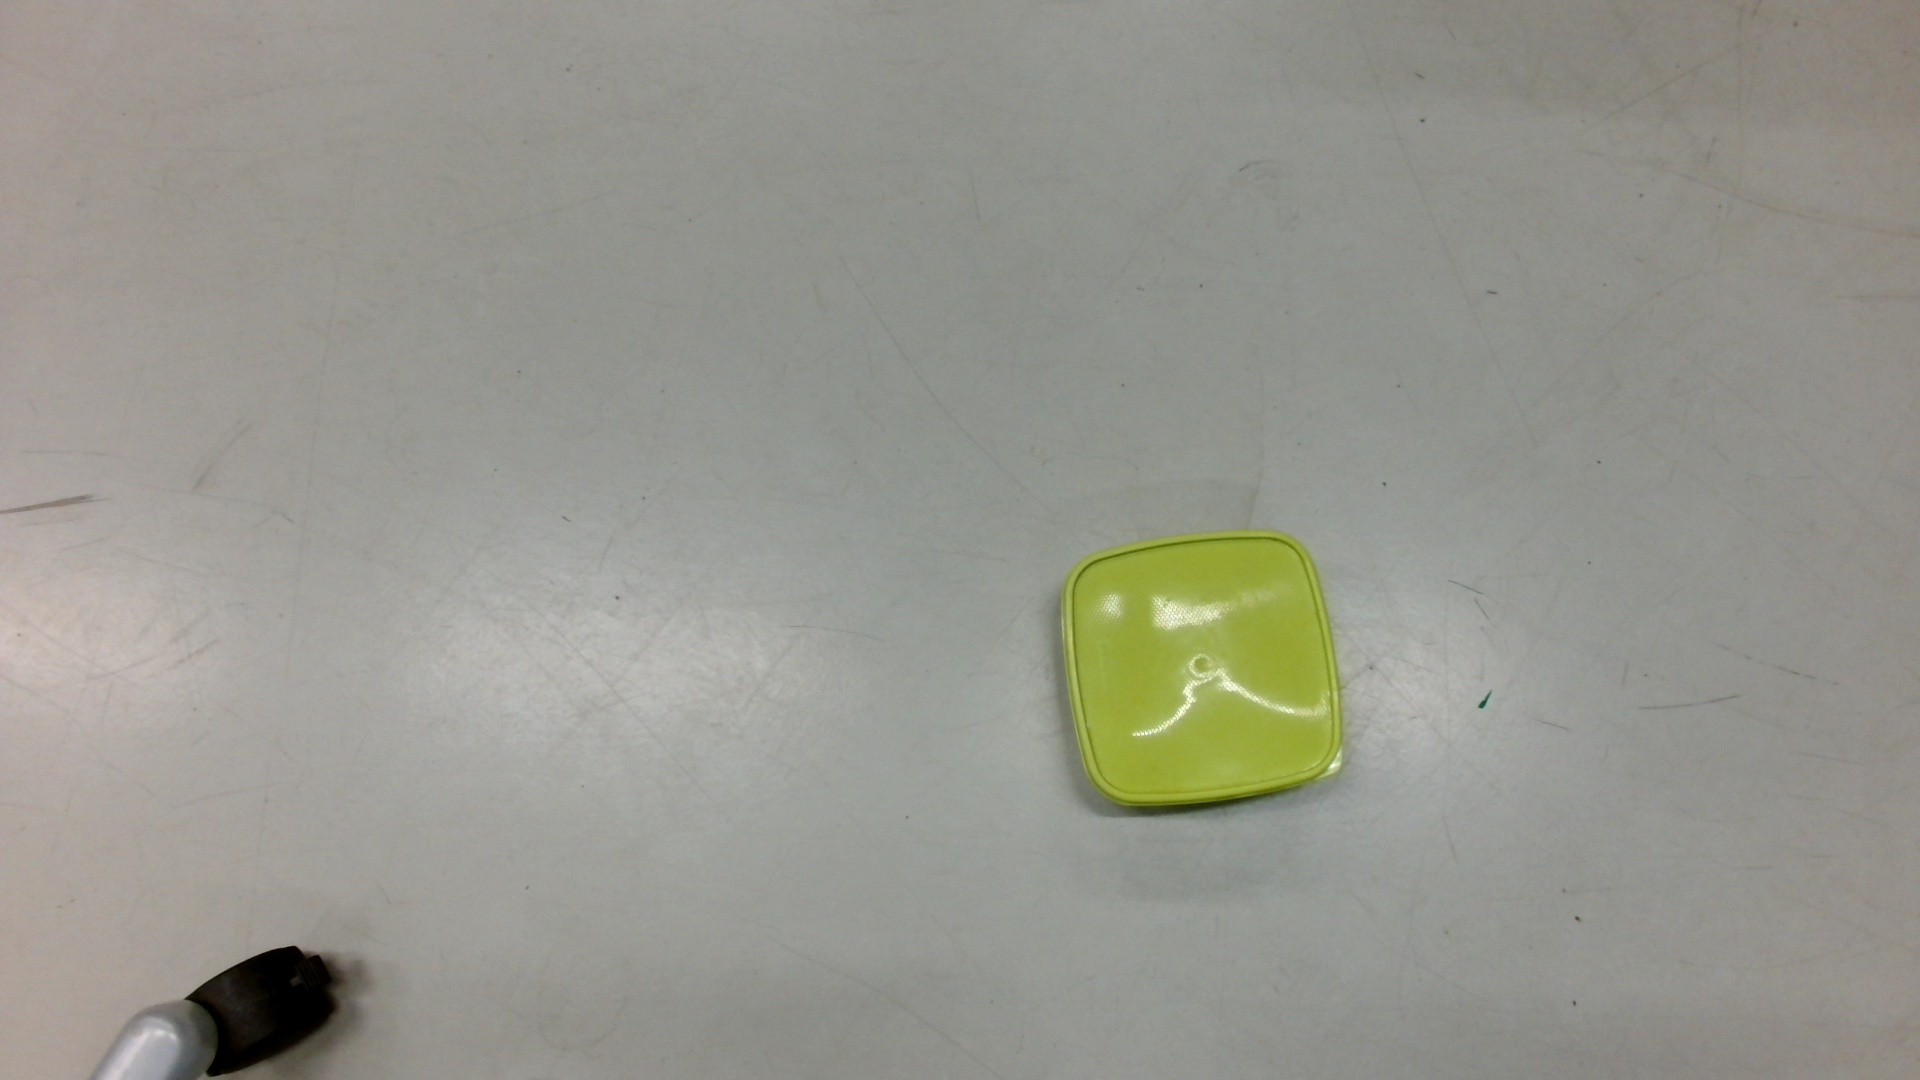Box: (1054, 524, 1346, 818)
